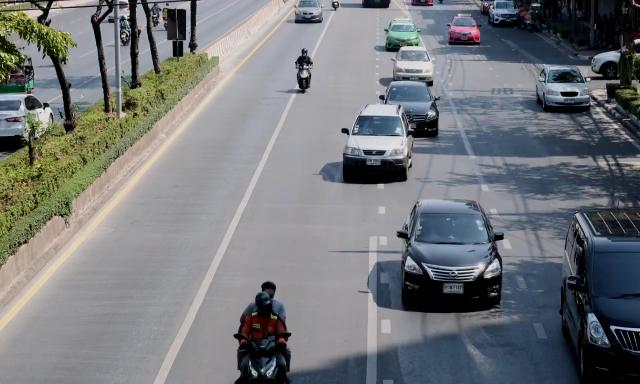carro: (558, 208, 640, 382), (396, 200, 504, 312), (340, 104, 418, 181), (378, 79, 441, 139), (0, 91, 56, 147), (534, 65, 592, 111), (590, 39, 640, 79), (390, 46, 436, 87), (446, 14, 484, 45), (385, 20, 422, 51), (487, 0, 521, 26), (293, 0, 324, 25), (106, 0, 134, 24), (480, 0, 492, 13)
moto: (231, 337, 289, 384), (293, 63, 313, 91), (524, 18, 542, 36), (118, 31, 133, 47), (148, 14, 162, 27), (518, 17, 527, 33), (162, 18, 171, 31)
tuktuk: (0, 53, 36, 97)
